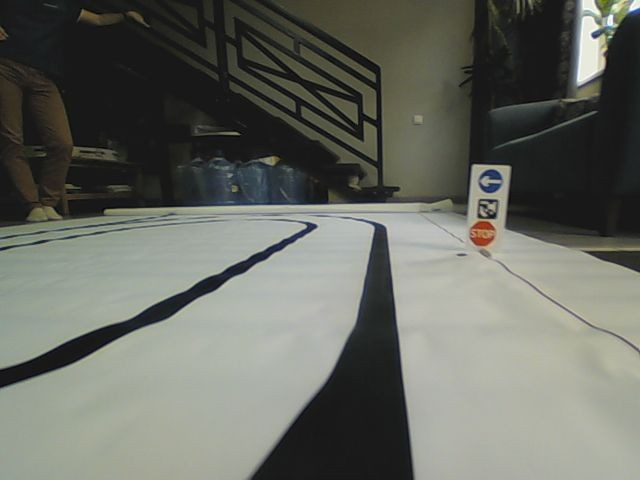Stop: (468, 221, 496, 248)
